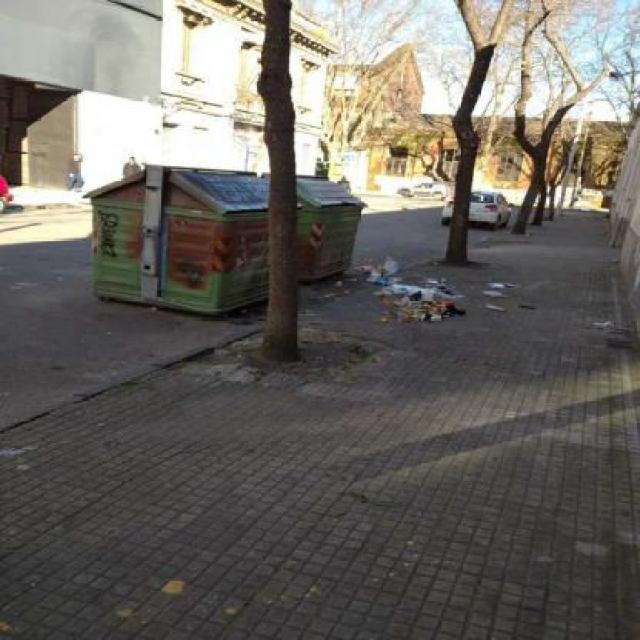garbage: (315, 245, 562, 336)
